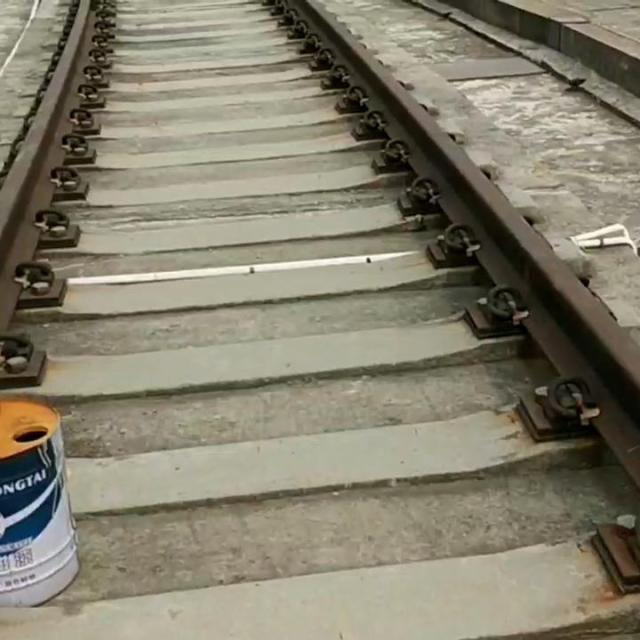danger: (0, 388, 93, 612)
rail: (290, 0, 640, 488), (1, 0, 93, 332)
